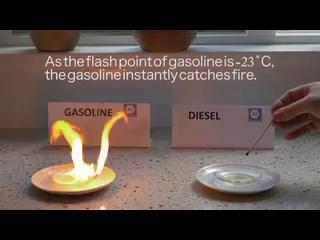Fire: (62, 106, 118, 180)
